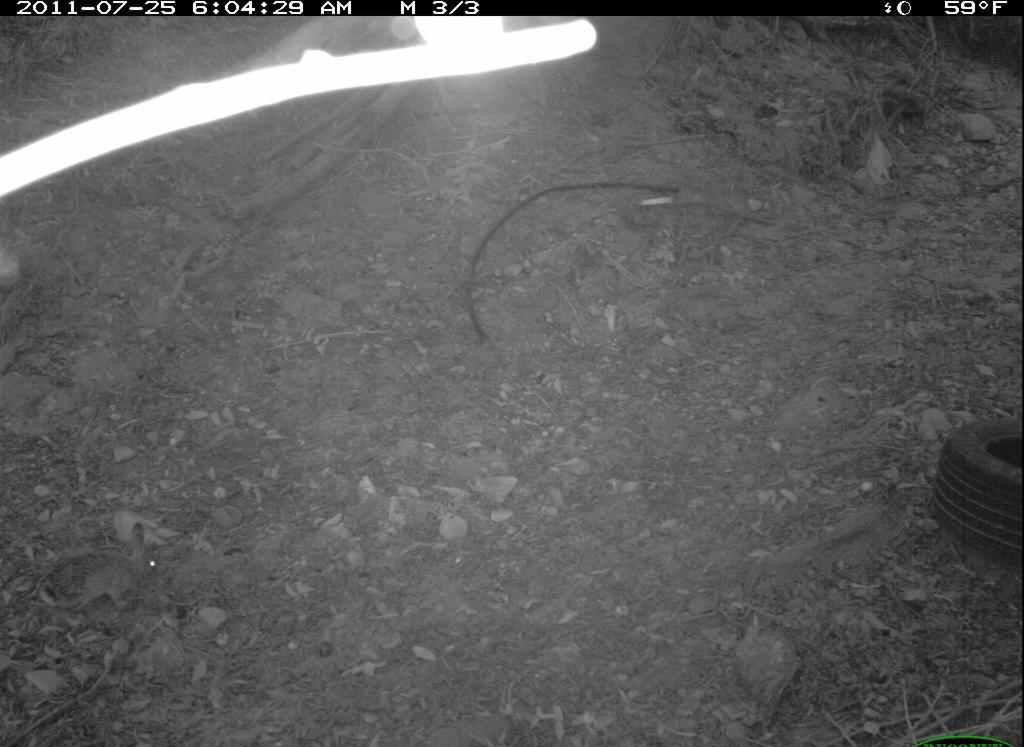rabbit: (25, 516, 172, 629)
